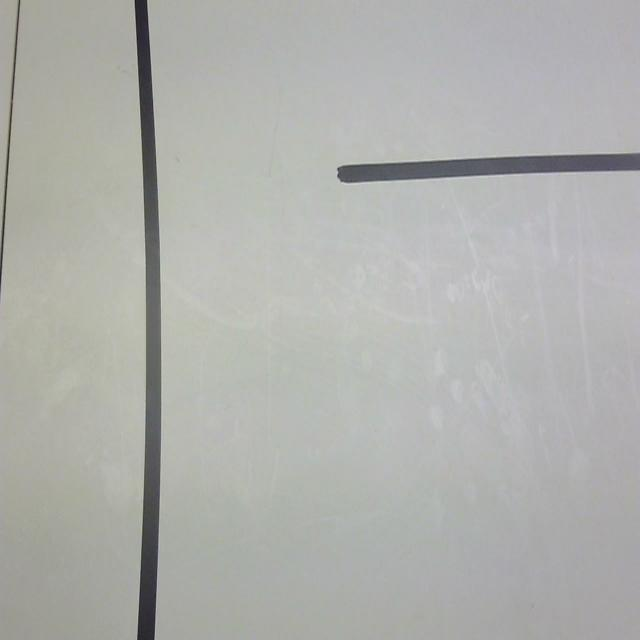tape: (124, 0, 169, 640), (330, 140, 640, 203)
